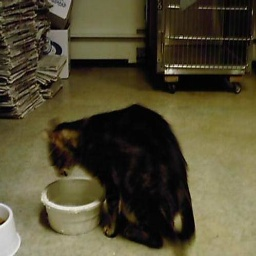cat: (34, 94, 203, 253)
